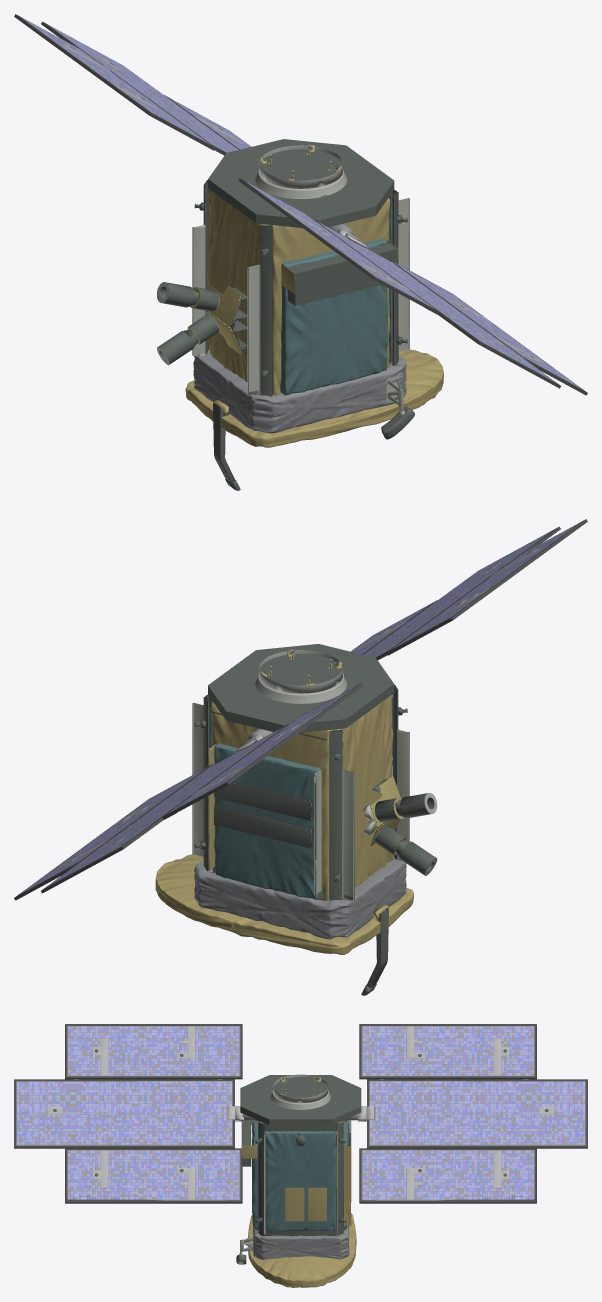
The model's file is cloudsat-a.glb.
3 renders of one model, top to bottom at view 1: azimuth 30°, elevation 25°; view 2: azimuth 150°, elevation 25°; view 3: azimuth 270°, elevation 25°, orthographic. The views are drawn at different scales.
Visible parts, largest first — view 1: Cloudsat_Unity_v002 [Layer10]; view 2: Cloudsat_Unity_v002 [Layer10]; view 3: Cloudsat_Unity_v002 [Layer10].
Part boxes in pixels (x1,y1,x2,y2): Cloudsat_Unity_v002 [Layer10]: (14, 14, 587, 490); Cloudsat_Unity_v002 [Layer10]: (14, 519, 587, 995); Cloudsat_Unity_v002 [Layer10]: (14, 1024, 587, 1287).
Bounding box in the file's own units: 62.33 × 76.6 × 172.
1 material, 1 textured.
